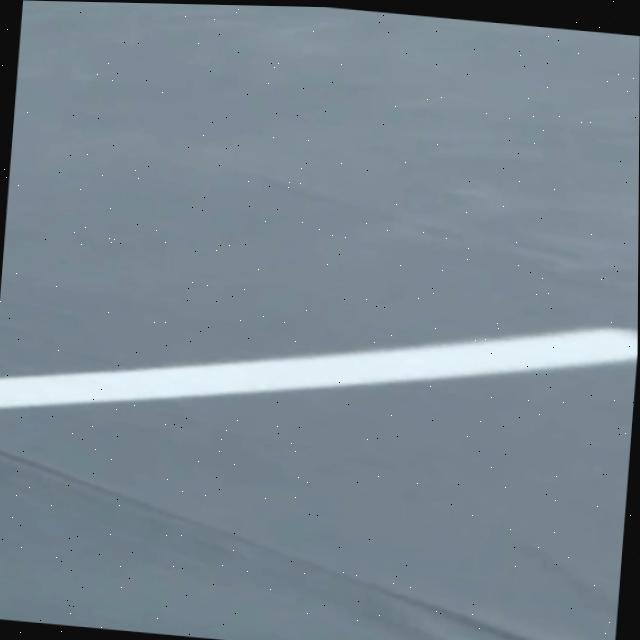center: (0, 327, 638, 408)
